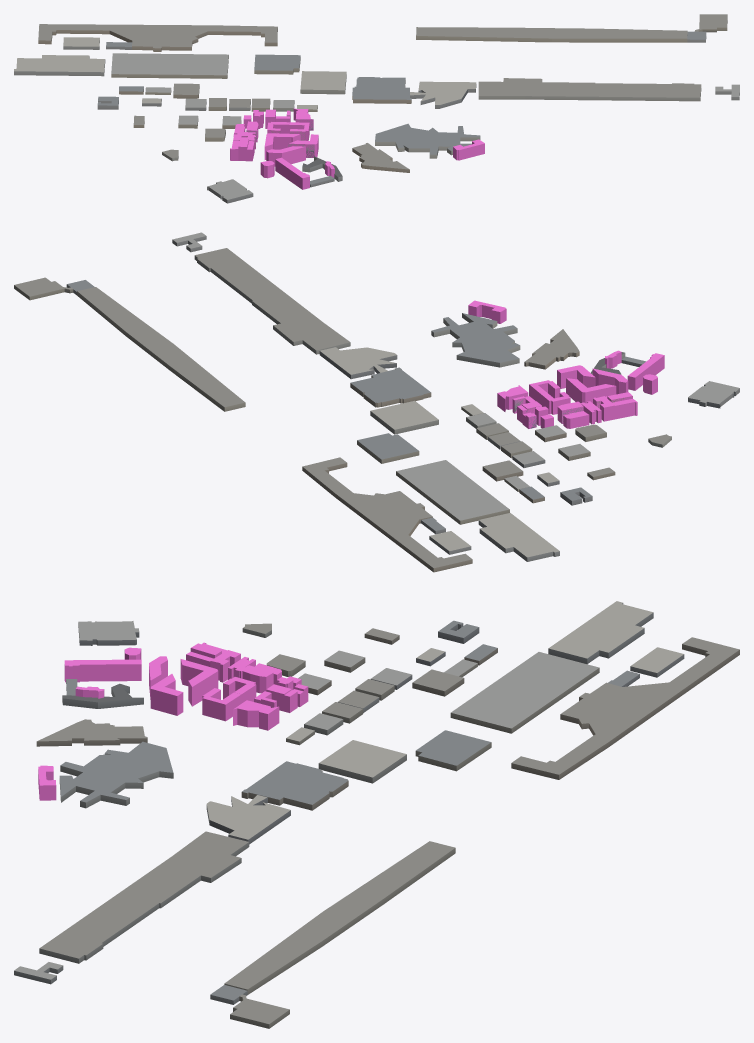
The model's file is bld_16_12.fbx.
The picture shows the model from 3 angles, top to bottom: view 1: azimuth 30°, elevation 25°; view 2: azimuth 150°, elevation 25°; view 3: azimuth 270°, elevation 25°; orthographic projection. The views are drawn at different scales.
Visible parts, largest first — view 1: bld_16_12_LOD0, bld_16_12_COL; view 2: bld_16_12_LOD0, bld_16_12_COL; view 3: bld_16_12_LOD0, bld_16_12_COL.
Boxes of the visible parts, x1,y1,x2,y2 form: bld_16_12_LOD0: (14, 14, 739, 203); bld_16_12_COL: (230, 108, 484, 189); bld_16_12_LOD0: (14, 232, 739, 572); bld_16_12_COL: (468, 300, 664, 428); bld_16_12_LOD0: (14, 601, 739, 1028); bld_16_12_COL: (38, 642, 308, 800).
Size of what is drawn, in the model's own units: 2005 by 45.63 by 1458.
